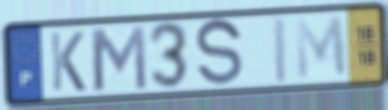3: (149, 20, 190, 93)
I: (271, 15, 291, 86)
K: (48, 29, 88, 94)
M: (86, 23, 150, 94), (292, 13, 350, 83)
S: (194, 16, 245, 91)
